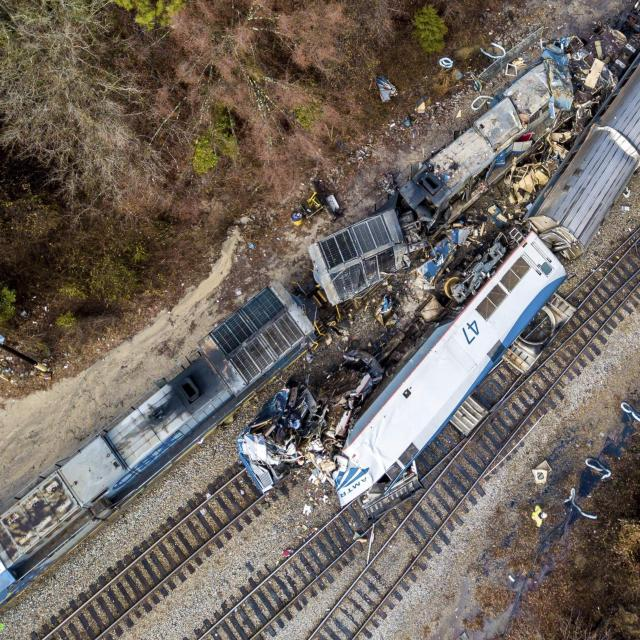traffic_incident: (0, 19, 618, 559)
